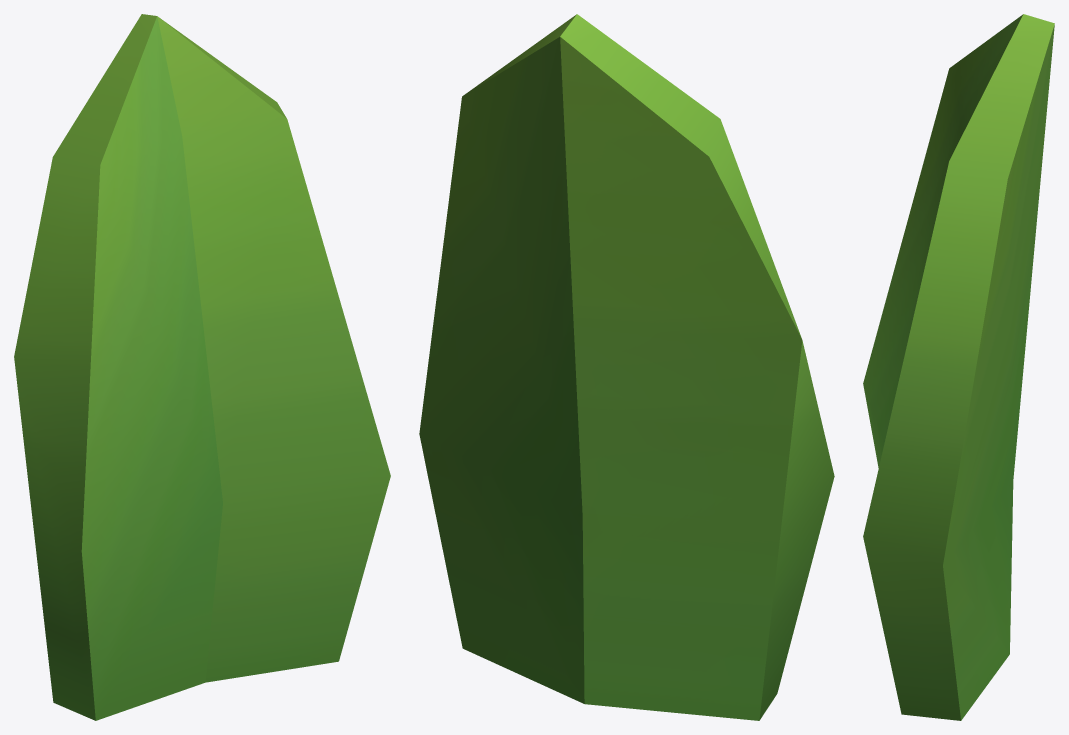
The model's file is grass_tall.glb.
3 renders of one model, left to right at view 1: azimuth 30°, elevation 25°; view 2: azimuth 150°, elevation 25°; view 3: azimuth 270°, elevation 25°, orthographic. The views are drawn at different scales.
Parts seen in each view (by area): view 1: Grass_1_A_Color1; view 2: Grass_1_A_Color1; view 3: Grass_1_A_Color1.
Part boxes in pixels (x1=…): Grass_1_A_Color1: x1=14, y1=14, x2=390, y2=720; Grass_1_A_Color1: x1=419, y1=14, x2=834, y2=720; Grass_1_A_Color1: x1=863, y1=14, x2=1054, y2=720.
Bounding box in the file's own units: 0.3308 × 0.5593 × 0.1518.
1 material, 1 textured.
